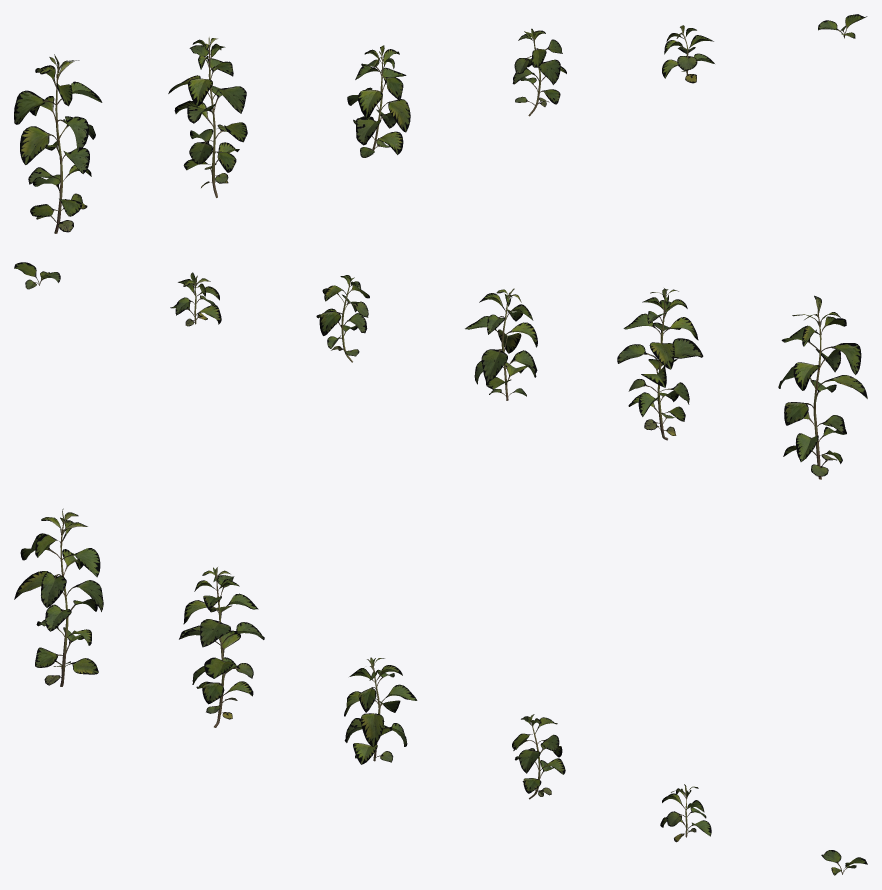
Rendered from nettle_plant.gltf.
3 renders of one model, top to bottom at view 1: azimuth 30°, elevation 25°; view 2: azimuth 150°, elevation 25°; view 3: azimuth 330°, elevation 25°, orthographic.
Parts seen in each view (by area): view 1: nettle_plant_tall_a_LOD0, nettle_plant_tall_b_LOD0, nettle_plant_medium_a_LOD0, nettle_plant_medium_b_LOD0, nettle_plant_small_a_LOD0; view 2: nettle_plant_tall_a_LOD0, nettle_plant_tall_b_LOD0, nettle_plant_medium_a_LOD0, nettle_plant_medium_b_LOD0, nettle_plant_small_a_LOD0, nettle_plant_small_b_LOD0; view 3: nettle_plant_tall_a_LOD0, nettle_plant_tall_b_LOD0, nettle_plant_medium_a_LOD0, nettle_plant_medium_b_LOD0, nettle_plant_small_a_LOD0.
Part boxes in pixels (left/top/right/bottom): nettle_plant_tall_a_LOD0: left=14, top=54, right=102, bottom=233; nettle_plant_tall_b_LOD0: left=168, top=37, right=247, bottom=197; nettle_plant_medium_a_LOD0: left=347, top=45, right=410, bottom=157; nettle_plant_medium_b_LOD0: left=512, top=28, right=566, bottom=116; nettle_plant_small_a_LOD0: left=662, top=25, right=714, bottom=83; nettle_plant_tall_a_LOD0: left=778, top=295, right=867, bottom=479; nettle_plant_tall_b_LOD0: left=617, top=288, right=703, bottom=440; nettle_plant_medium_a_LOD0: left=465, top=288, right=537, bottom=400; nettle_plant_medium_b_LOD0: left=316, top=275, right=369, bottom=362; nettle_plant_small_a_LOD0: left=170, top=272, right=221, bottom=326; nettle_plant_small_b_LOD0: left=14, top=262, right=60, bottom=289; nettle_plant_tall_a_LOD0: left=14, top=508, right=103, bottom=686; nettle_plant_tall_b_LOD0: left=179, top=567, right=264, bottom=727; nettle_plant_medium_a_LOD0: left=344, top=657, right=417, bottom=764; nettle_plant_medium_b_LOD0: left=512, top=714, right=565, bottom=799; nettle_plant_small_a_LOD0: left=660, top=784, right=711, bottom=842.
Bounding box in the file's own units: 1.08 × 0.2183 × 0.0947.
1 material, 1 textured.
